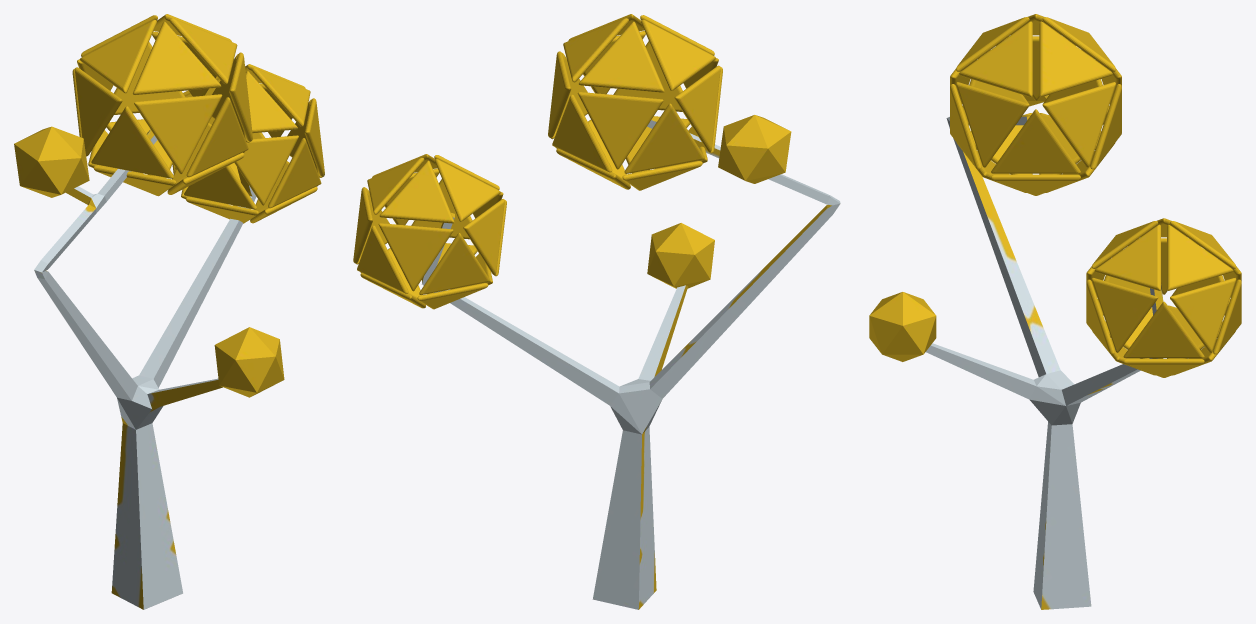
Rendered from YTree.obj.
3 renders of one model, left to right at view 1: azimuth 30°, elevation 25°; view 2: azimuth 150°, elevation 25°; view 3: azimuth 270°, elevation 25°, orthographic. The views are drawn at different scales.
Parts seen in each view (by area): view 1: Icosphere.014, Cube, Icosphere.010, Icosphere.007, Icosphere.011; view 2: Icosphere.014, Cube, Icosphere.010, Icosphere.007, Icosphere.011; view 3: Icosphere.014, Icosphere.010, Cube, Icosphere.011.
Boxes of the visible parts, x1=… form: Icosphere.014: x1=72, y1=14, x2=252, y2=196; Cube: x1=34, y1=129, x2=256, y2=609; Icosphere.010: x1=172, y1=64, x2=324, y2=223; Icosphere.007: x1=14, y1=126, x2=89, y2=197; Icosphere.011: x1=214, y1=327, x2=284, y2=397; Icosphere.014: x1=548, y1=14, x2=722, y2=190; Cube: x1=422, y1=117, x2=840, y2=609; Icosphere.010: x1=353, y1=154, x2=506, y2=309; Icosphere.007: x1=718, y1=115, x2=791, y2=183; Icosphere.011: x1=647, y1=223, x2=714, y2=288; Icosphere.014: x1=950, y1=14, x2=1121, y2=195; Icosphere.010: x1=1086, y1=218, x2=1241, y2=377; Cube: x1=926, y1=115, x2=1163, y2=609; Icosphere.011: x1=869, y1=292, x2=936, y2=361.
Bounding box in the file's own units: 2.02 × 2.93 × 1.7.
1 material, 1 textured.
